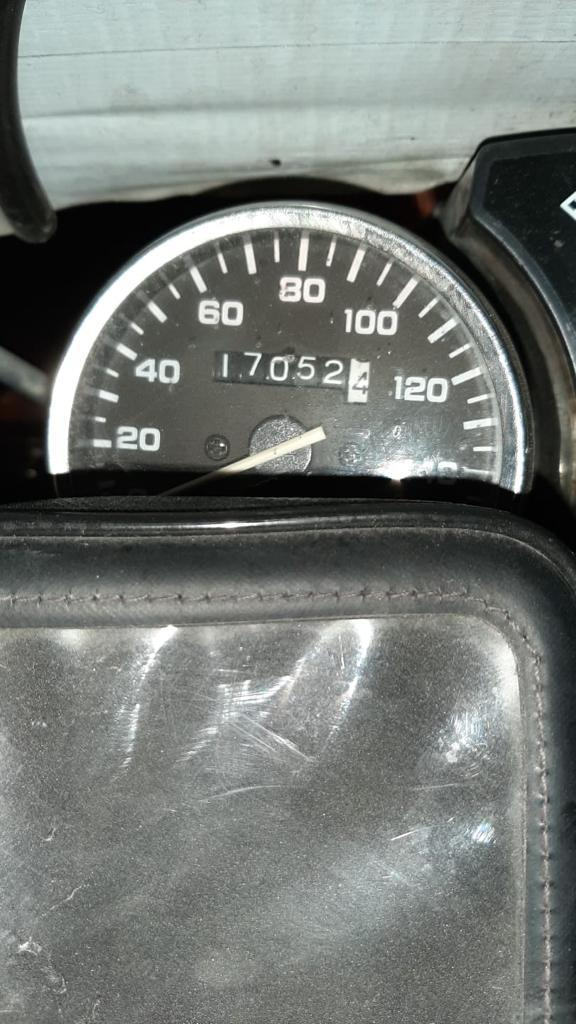0: (269, 355, 289, 381)
1: (221, 352, 229, 378)
2: (322, 358, 343, 384)
4: (351, 371, 368, 395)
5: (297, 353, 317, 382)
7: (243, 351, 262, 376)
odometer: (210, 348, 372, 405)
